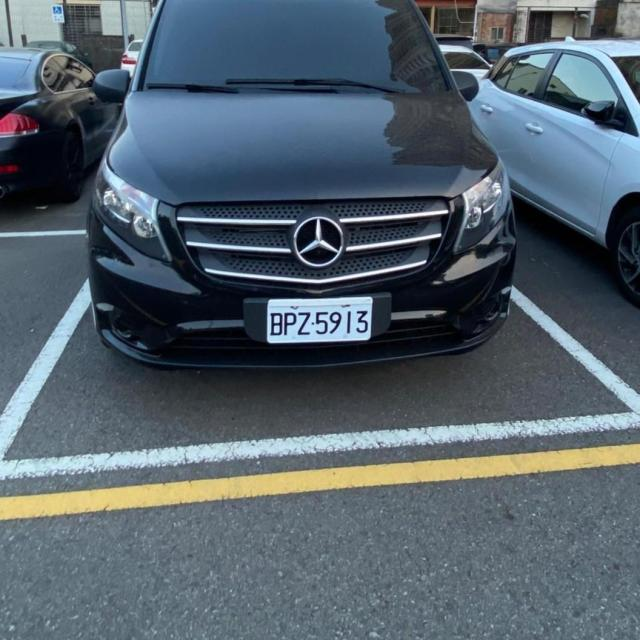W: (266, 294, 372, 346)
